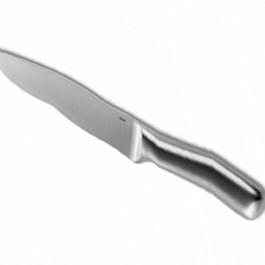knife: (1, 49, 264, 220)
